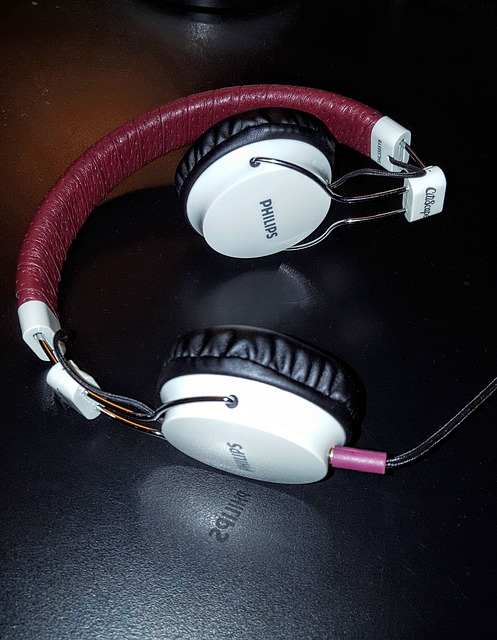headphones: (16, 83, 447, 484)
